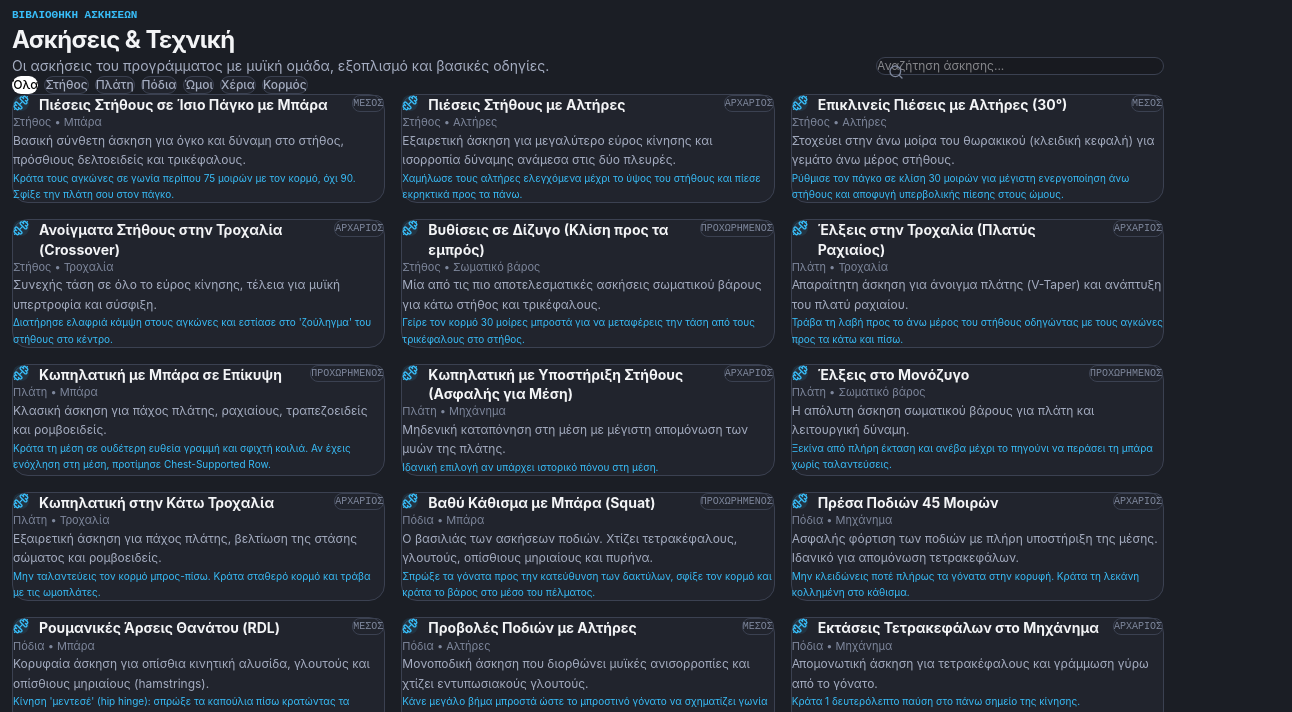
Test: Exercises (the public exercise library) › shows an empty state when nothing matches, and recovers
Type "zzzzz-no-such-exercise" into the search field labelled "Αναζήτηση άσκησης" at (1020, 66), box [876,57,1164,75]
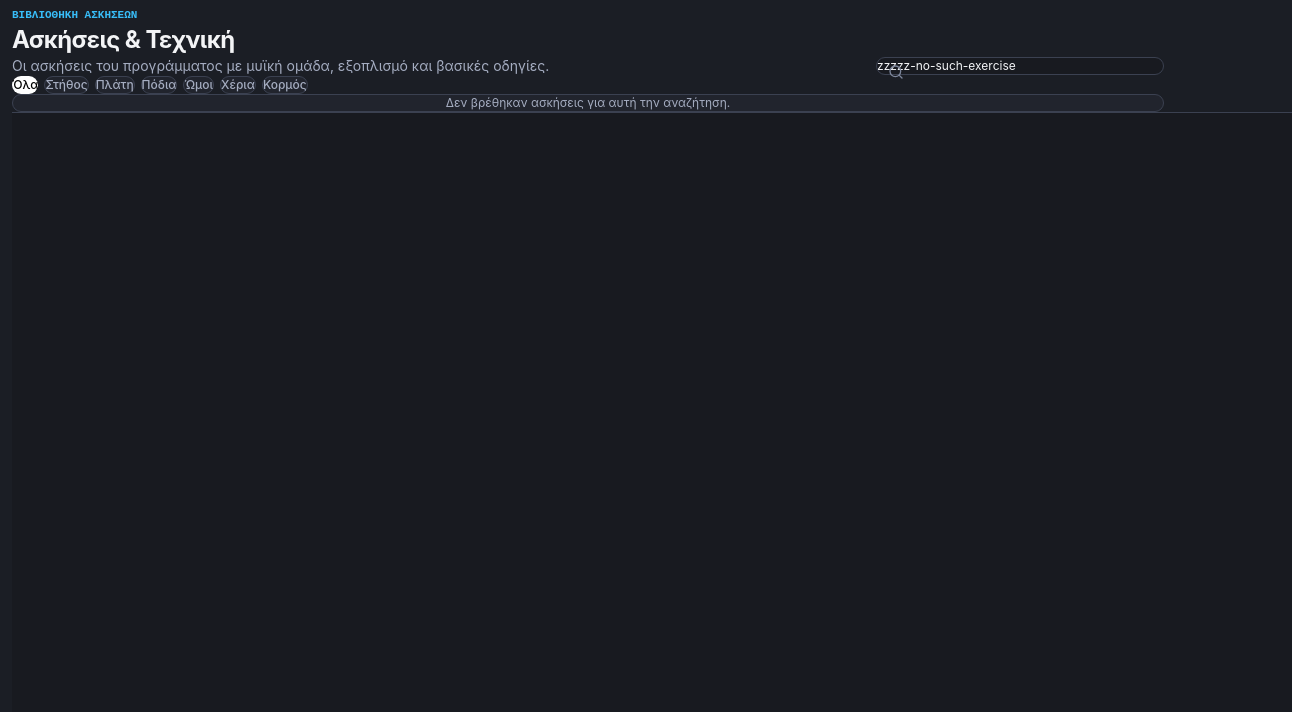
Expected: the text "Δεν βρέθηκαν ασκήσεις για αυτή την αναζήτηση." is shown, [12,94,1164,112]
Clear the search field named "Αναζήτηση άσκησης" at (1020, 66), box [876,57,1164,75]
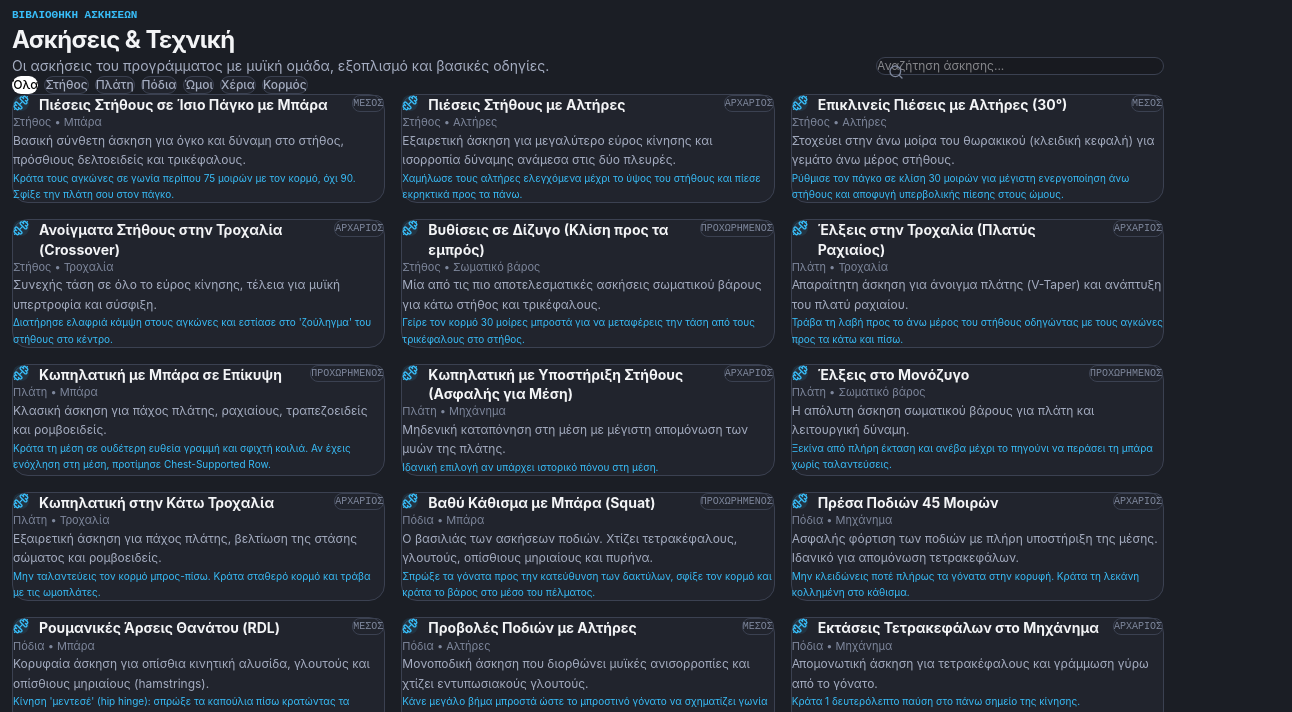
Expected: the text "Δεν βρέθηκαν ασκήσεις για αυτή την αναζήτηση." is gone
